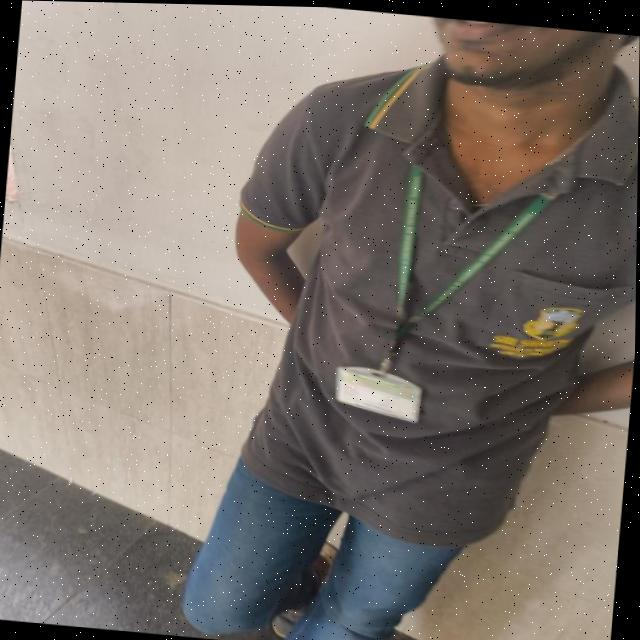id_card: (336, 167, 554, 421)
